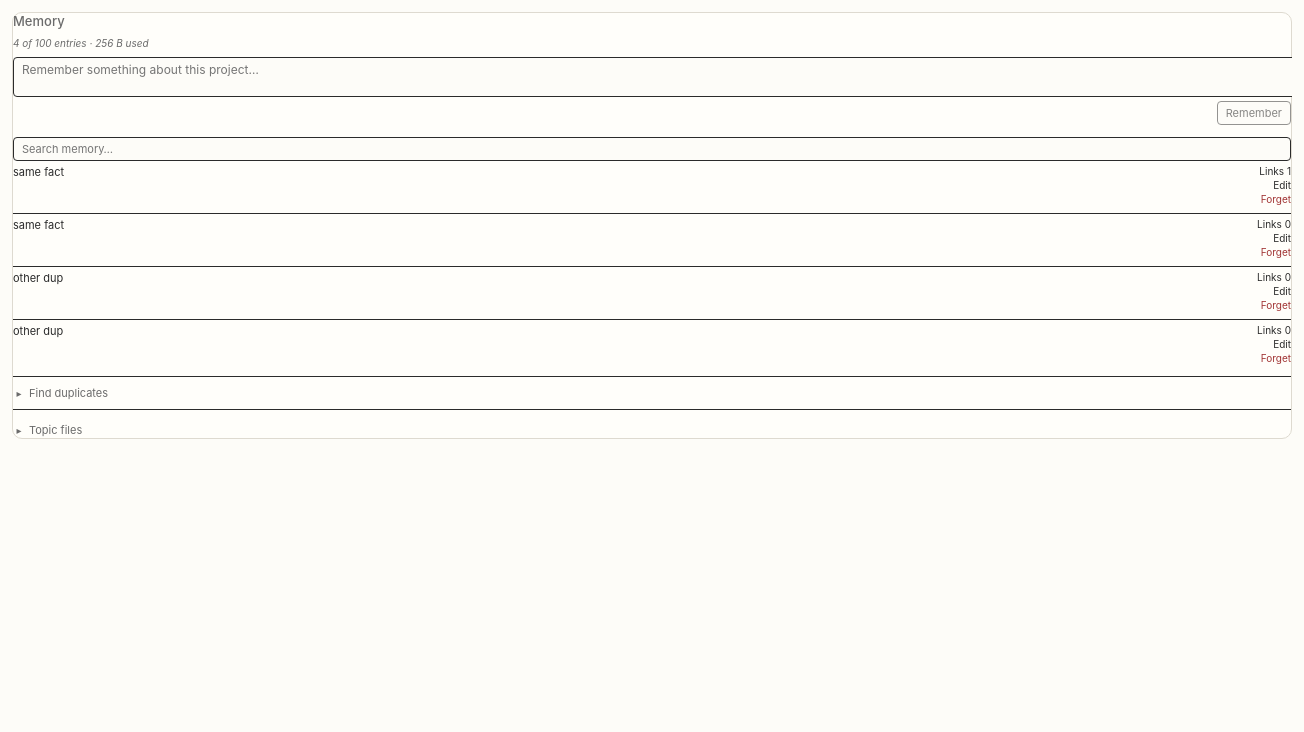
Test case: MemoryPanel — memory topic links › loads current links checked and explains that links do not change chat context
The image size is (1304, 732).
Click the button "Links 1" at (1275, 171), box [1259,165,1291,177]
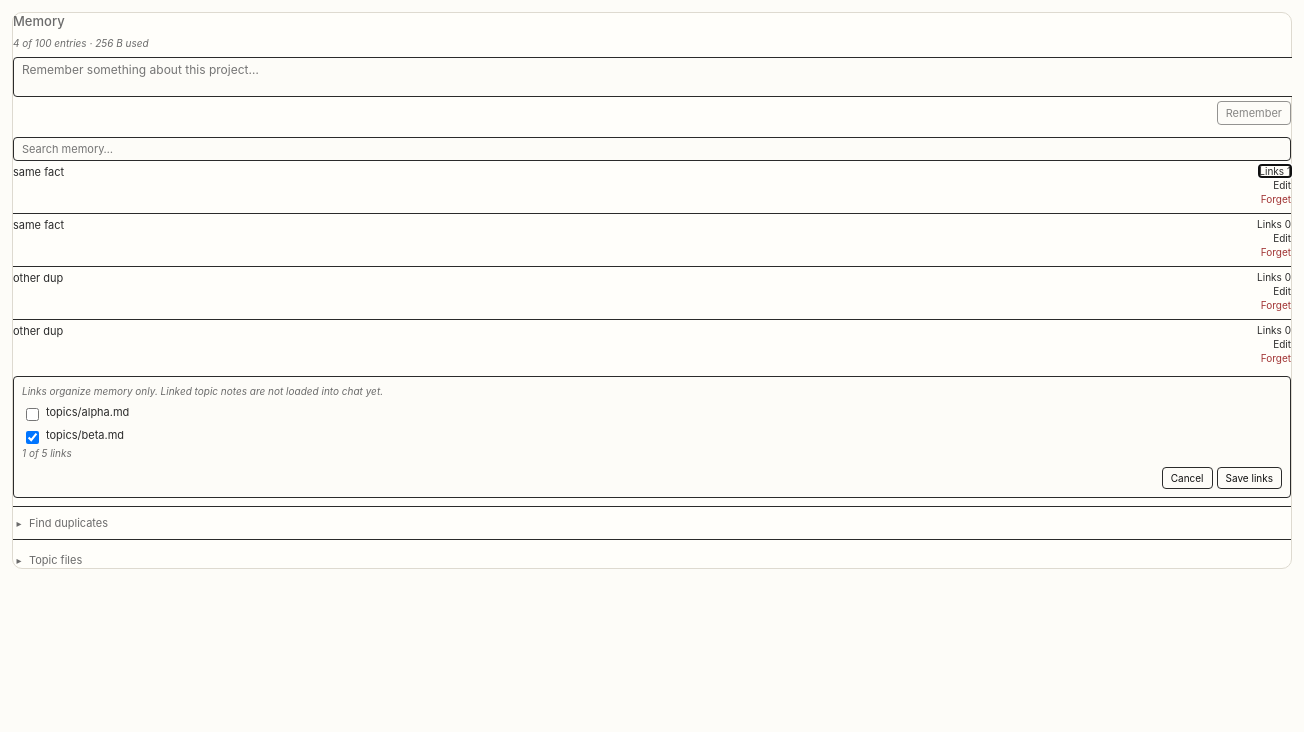
Result: the checkbox labelled "topics/beta.md" is checked at [26,431,39,444]
Result: the checkbox labelled "topics/alpha.md" is not checked at [26,408,39,421]
Result: the text "Links organize memory only. Linked topic notes are not loaded into chat yet." is shown at [22,385,383,397]
